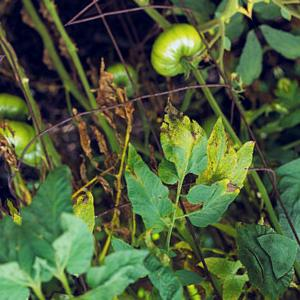Tomato Early blight leaf: (108, 140, 182, 241), (141, 94, 217, 187), (175, 170, 249, 230)
